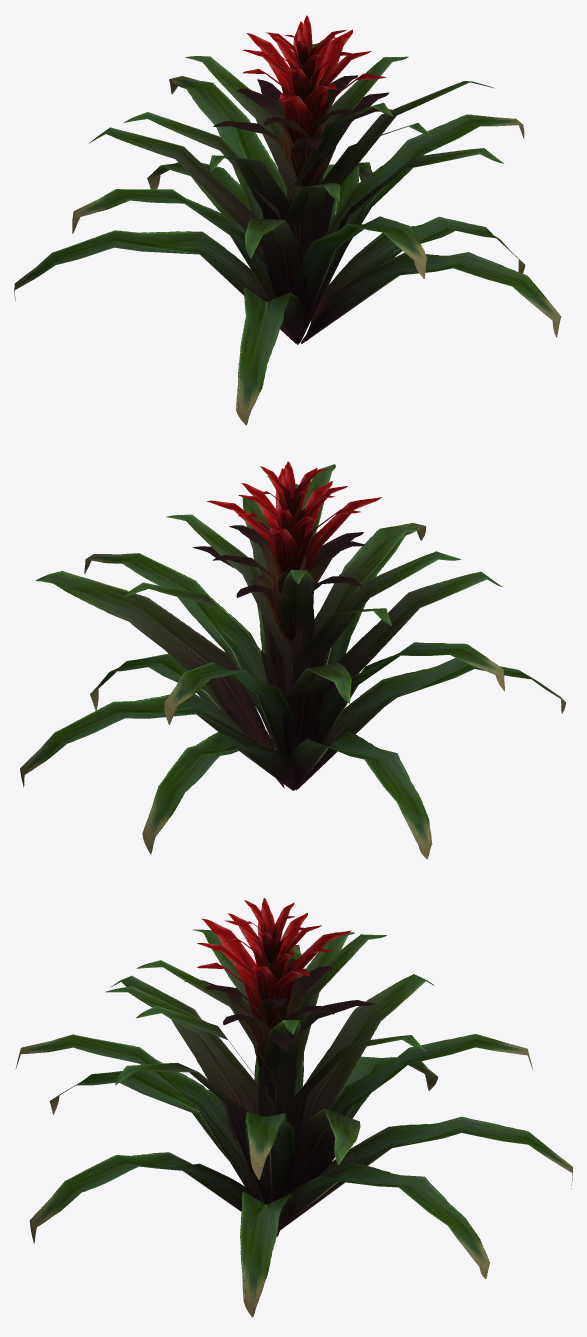
File: trop_shrub_01.obj
3 renders of one model, top to bottom at view 1: azimuth 30°, elevation 25°; view 2: azimuth 150°, elevation 25°; view 3: azimuth 270°, elevation 25°, orthographic. The views are drawn at different scales.
Parts seen in each view (by area): view 1: trop_shrub_01; view 2: trop_shrub_01; view 3: trop_shrub_01.
Boxes of the visible parts, bbox=[...] form: trop_shrub_01: bbox=[14, 15, 561, 425]; trop_shrub_01: bbox=[20, 461, 565, 859]; trop_shrub_01: bbox=[15, 898, 572, 1317].
Bounding box in the file's own units: 248 × 168 × 258.
